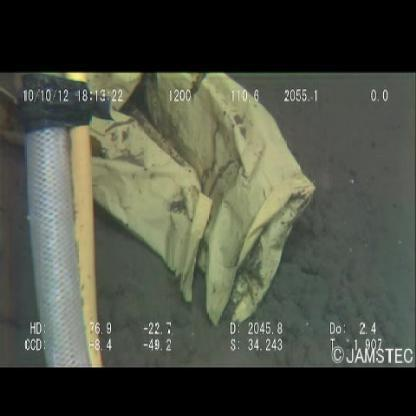Rác: (0, 73, 316, 335)
